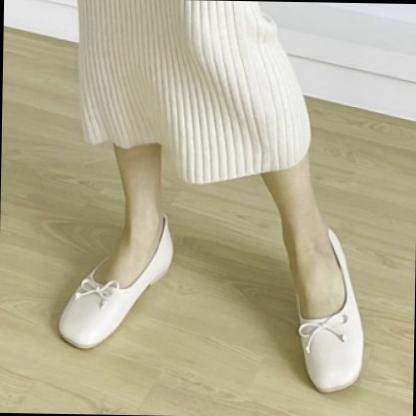no_safety-shoe: (266, 206, 382, 402), (54, 212, 173, 360)
